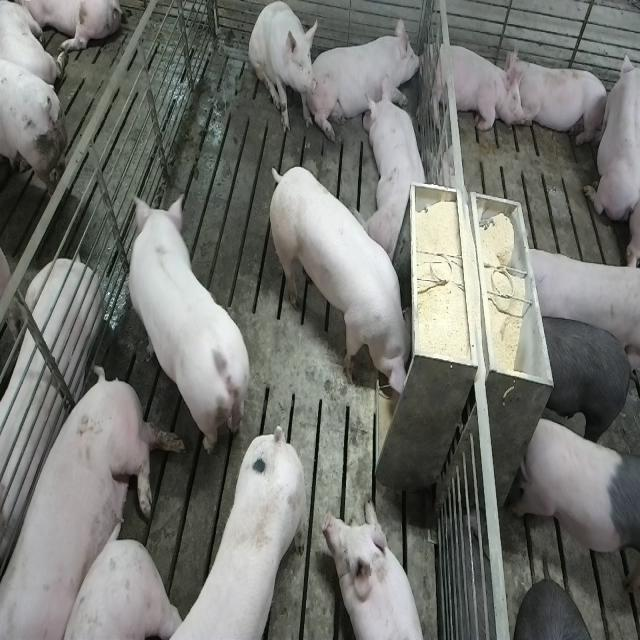Feeding: (272, 164, 421, 402)
Lateral_lying: (2, 366, 184, 640), (0, 253, 102, 585)
Sitting: (249, 1, 320, 134)
Standing: (141, 426, 313, 640), (125, 194, 249, 471), (517, 411, 638, 572), (517, 241, 637, 375), (540, 310, 634, 441), (515, 576, 601, 638)
Sternal_lying: (328, 502, 432, 640), (314, 13, 424, 141), (365, 80, 430, 258), (584, 40, 637, 229), (510, 52, 610, 148), (425, 36, 519, 135)
